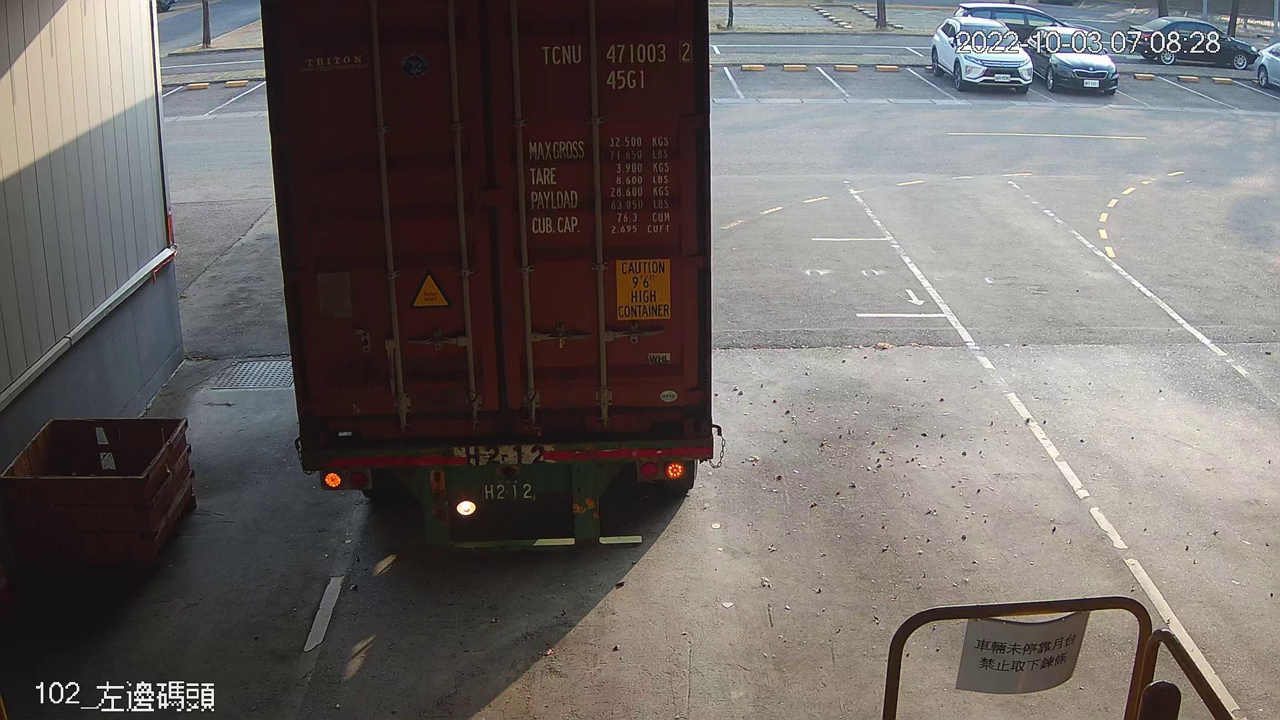container: (534, 35, 696, 95)
